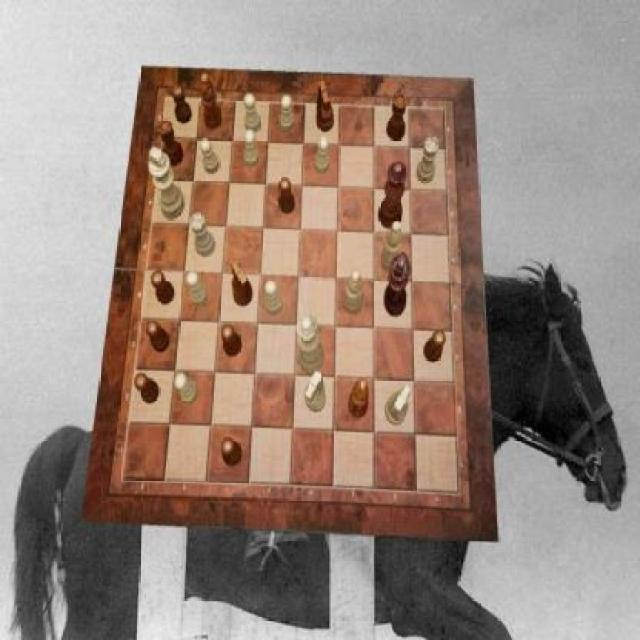bishop: (202, 72, 222, 130), (348, 378, 368, 418)
black-bishop: (384, 251, 412, 316)
black-king: (231, 261, 253, 307), (315, 80, 333, 132)
black-knight: (150, 269, 174, 304), (172, 86, 192, 125), (146, 320, 170, 352), (423, 331, 446, 363), (134, 374, 158, 404), (278, 178, 296, 214), (223, 325, 243, 357), (222, 439, 242, 466)
black-pawn: (378, 163, 408, 231)
black-queen: (158, 120, 184, 168), (386, 94, 407, 141)
black-rook: (380, 220, 402, 272), (343, 270, 363, 314)
white-bishop: (150, 146, 186, 220)
white-king: (384, 385, 410, 426), (305, 371, 327, 412)
white-knight: (186, 271, 209, 307), (176, 372, 200, 405), (200, 138, 220, 174), (244, 94, 262, 134), (314, 135, 330, 174), (265, 280, 282, 316), (278, 95, 294, 133), (245, 129, 260, 168)
white-pawn: (297, 314, 325, 374)
white-queen: (191, 214, 217, 258), (417, 137, 440, 183)
